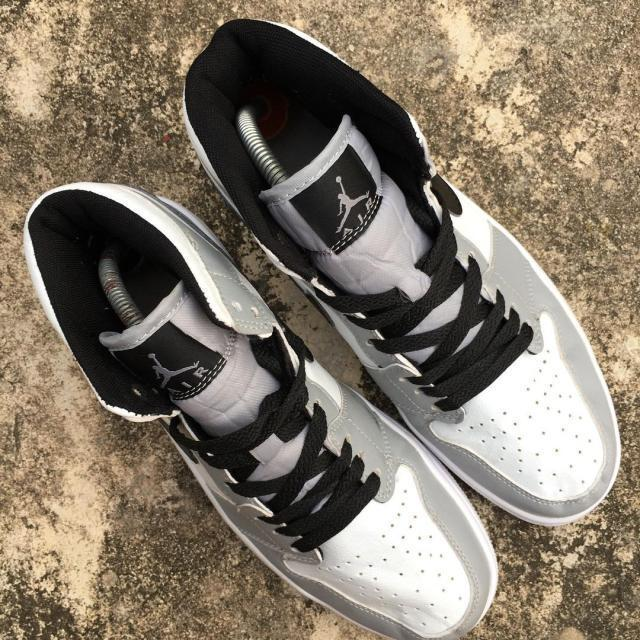nike fake jordan 1: (182, 28, 636, 522), (24, 178, 512, 636)
